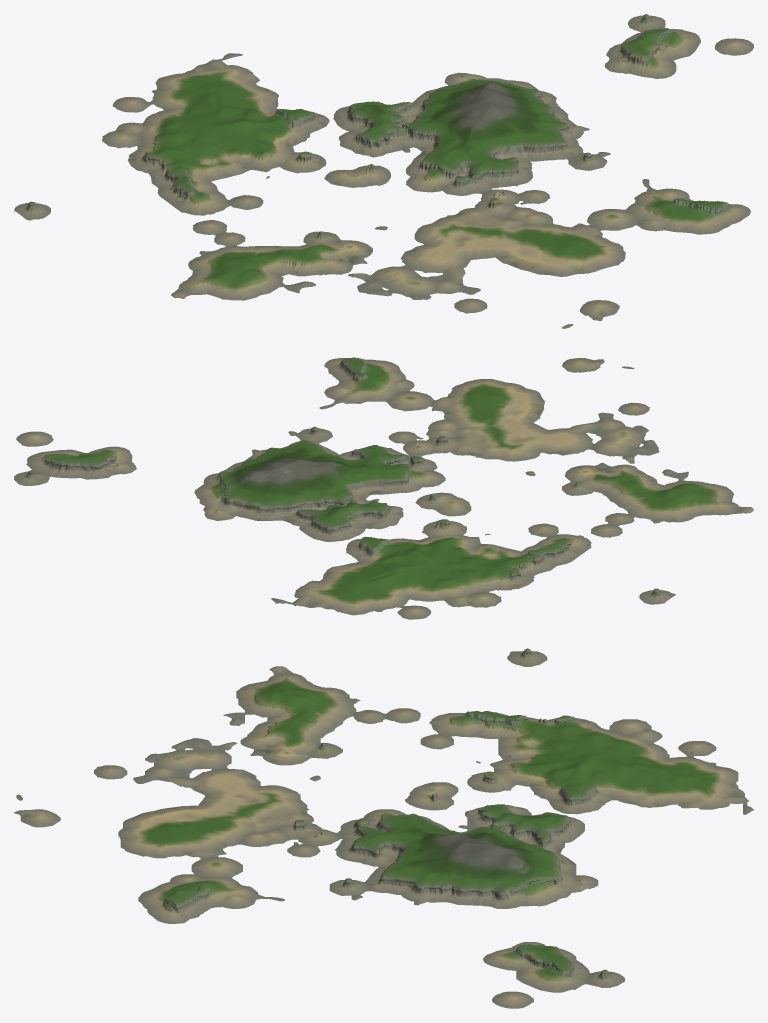
Rendered from arch_islands_lod1.glb.
3 views of the same model, one above another, from view 1: azimuth 30°, elevation 25°; view 2: azimuth 150°, elevation 25°; view 3: azimuth 270°, elevation 25° (orthographic). The views are drawn at different scales.
Visible parts, largest first — view 1: arch_islands_lod1; view 2: arch_islands_lod1; view 3: arch_islands_lod1.
Boxes of the visible parts, x1=… form: arch_islands_lod1: x1=14, y1=14, x2=753, y2=328; arch_islands_lod1: x1=14, y1=357, x2=753, y2=619; arch_islands_lod1: x1=14, y1=648, x2=753, y2=1008.
Bounding box in the file's own units: 2280 × 78.05 × 1998.
